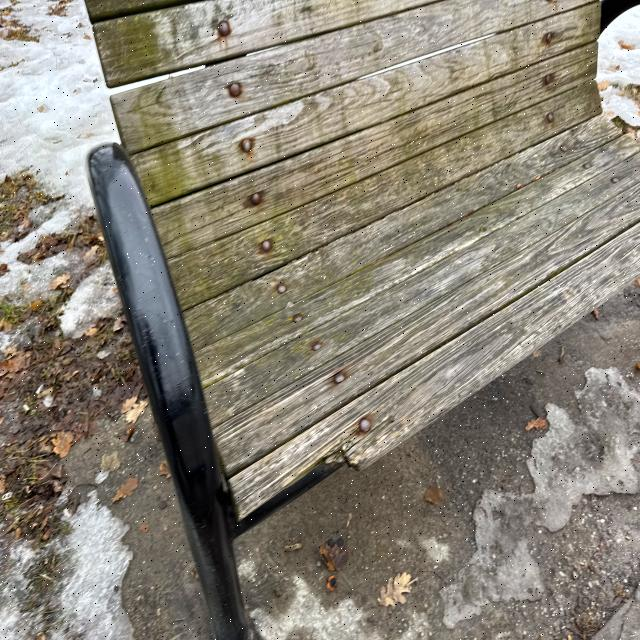Bench: (85, 4, 521, 624), (85, 8, 636, 434)
